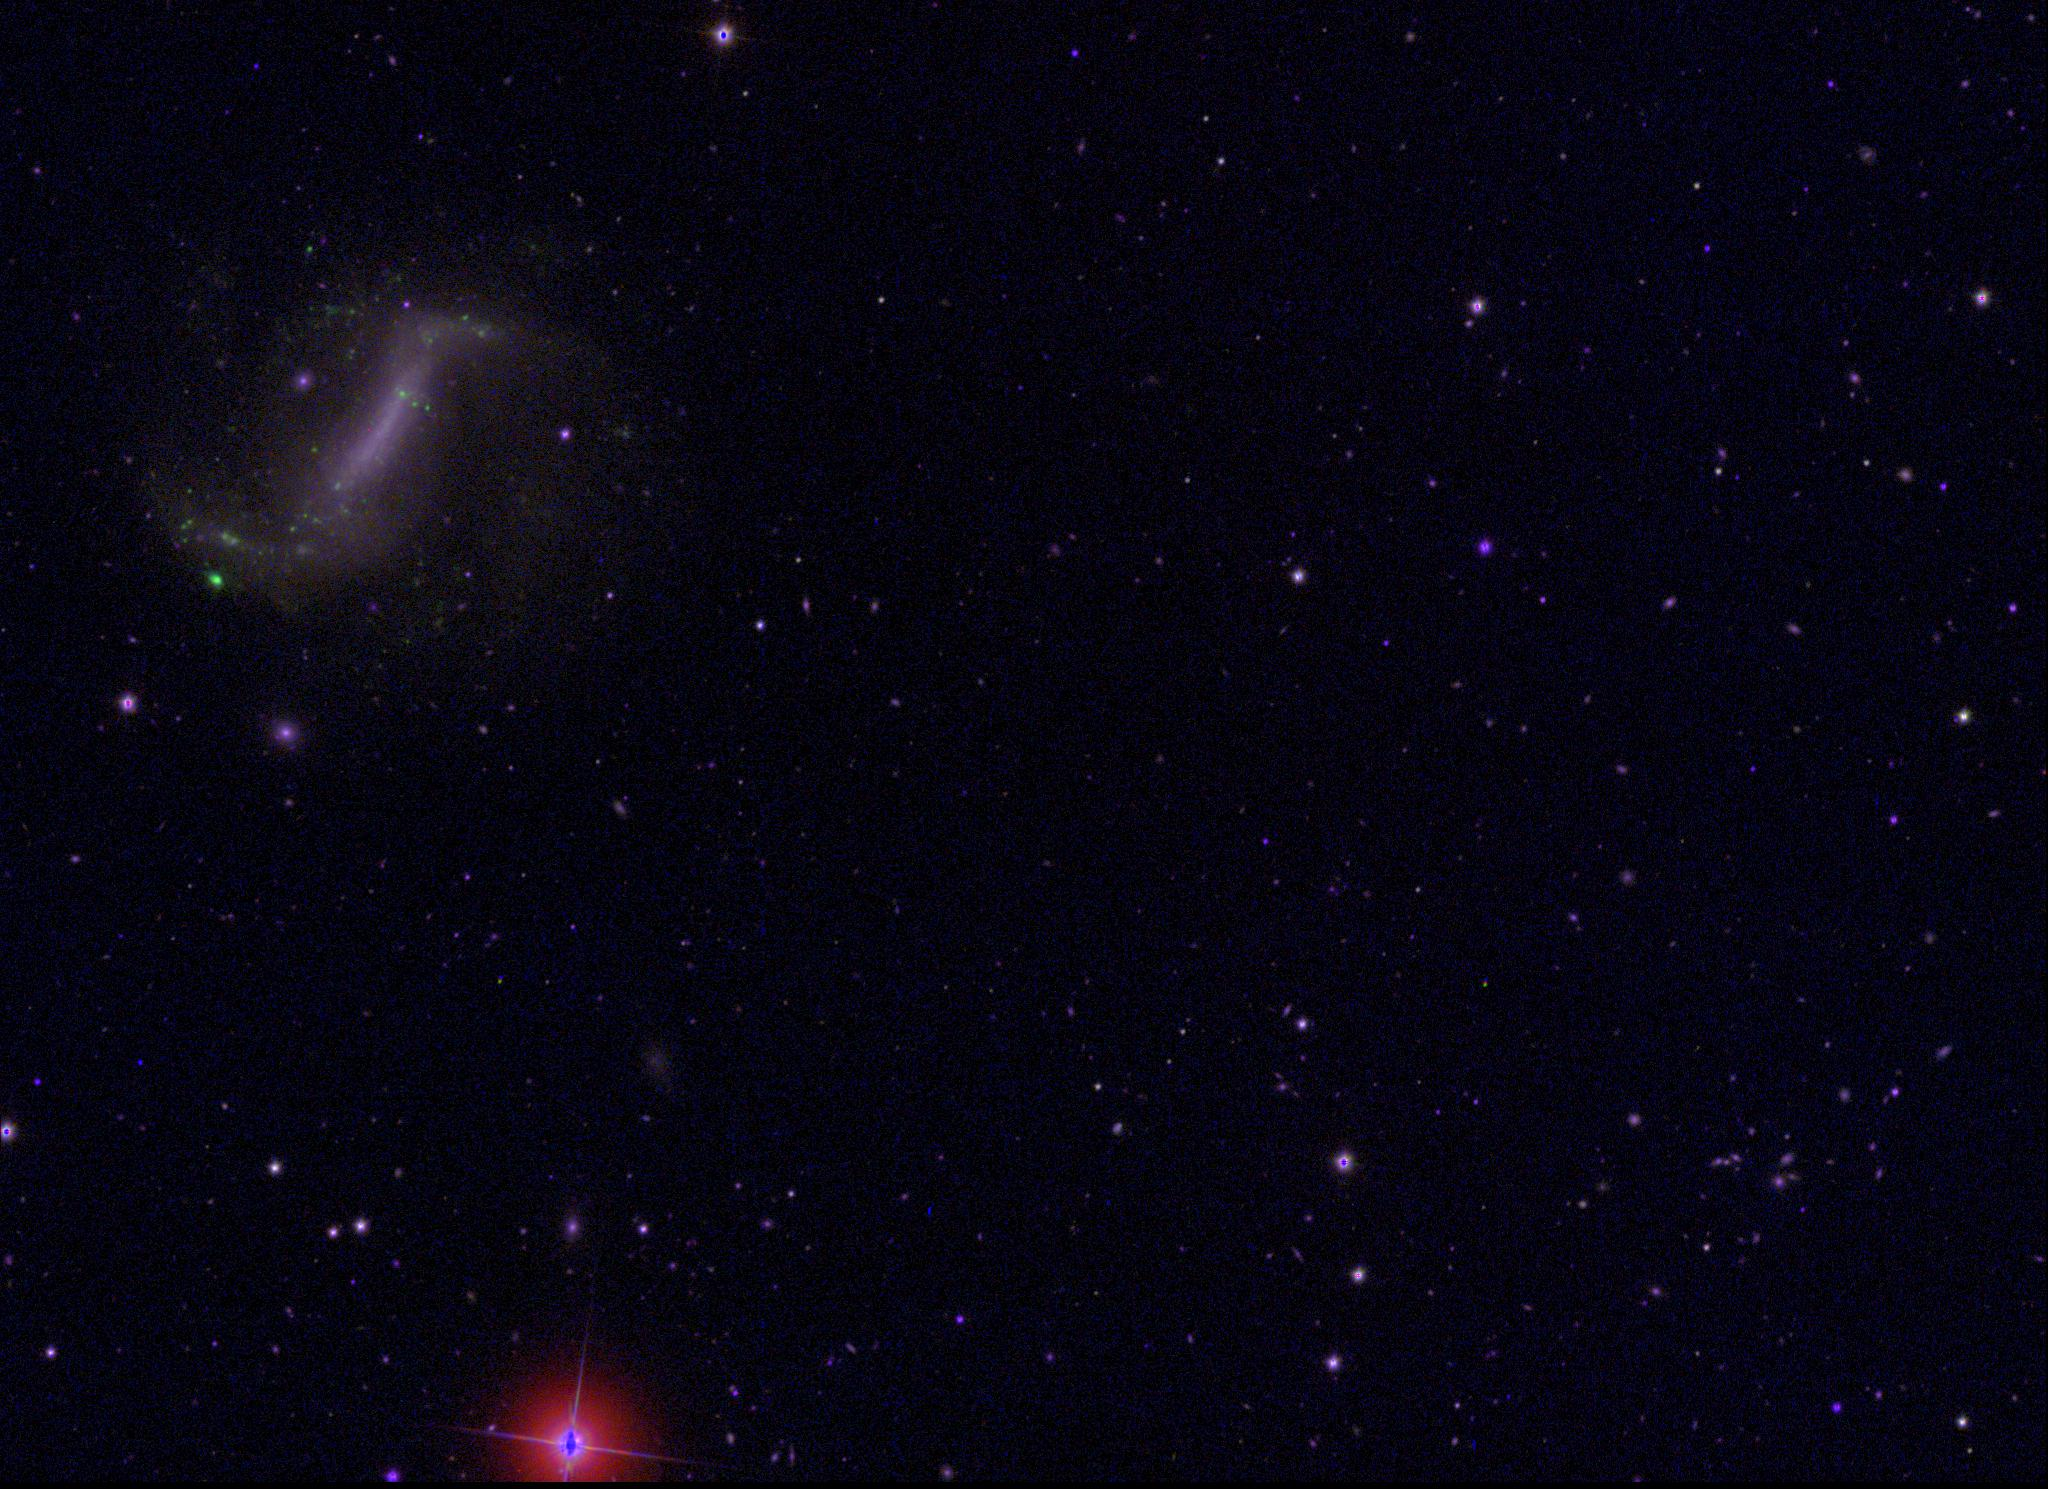L: (134, 1053, 146, 1067)
